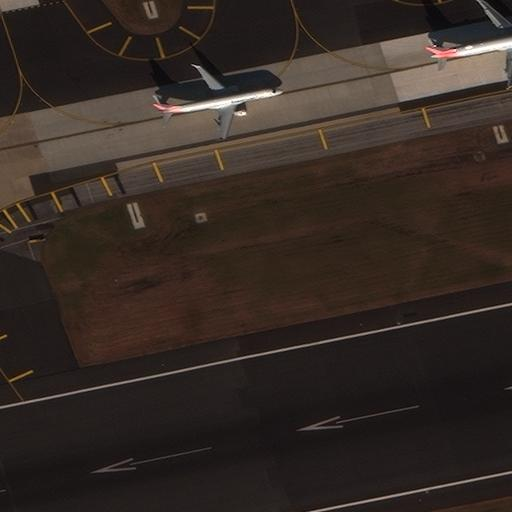Medium Civil Transport: (152, 65, 282, 138), (425, 0, 511, 83)
